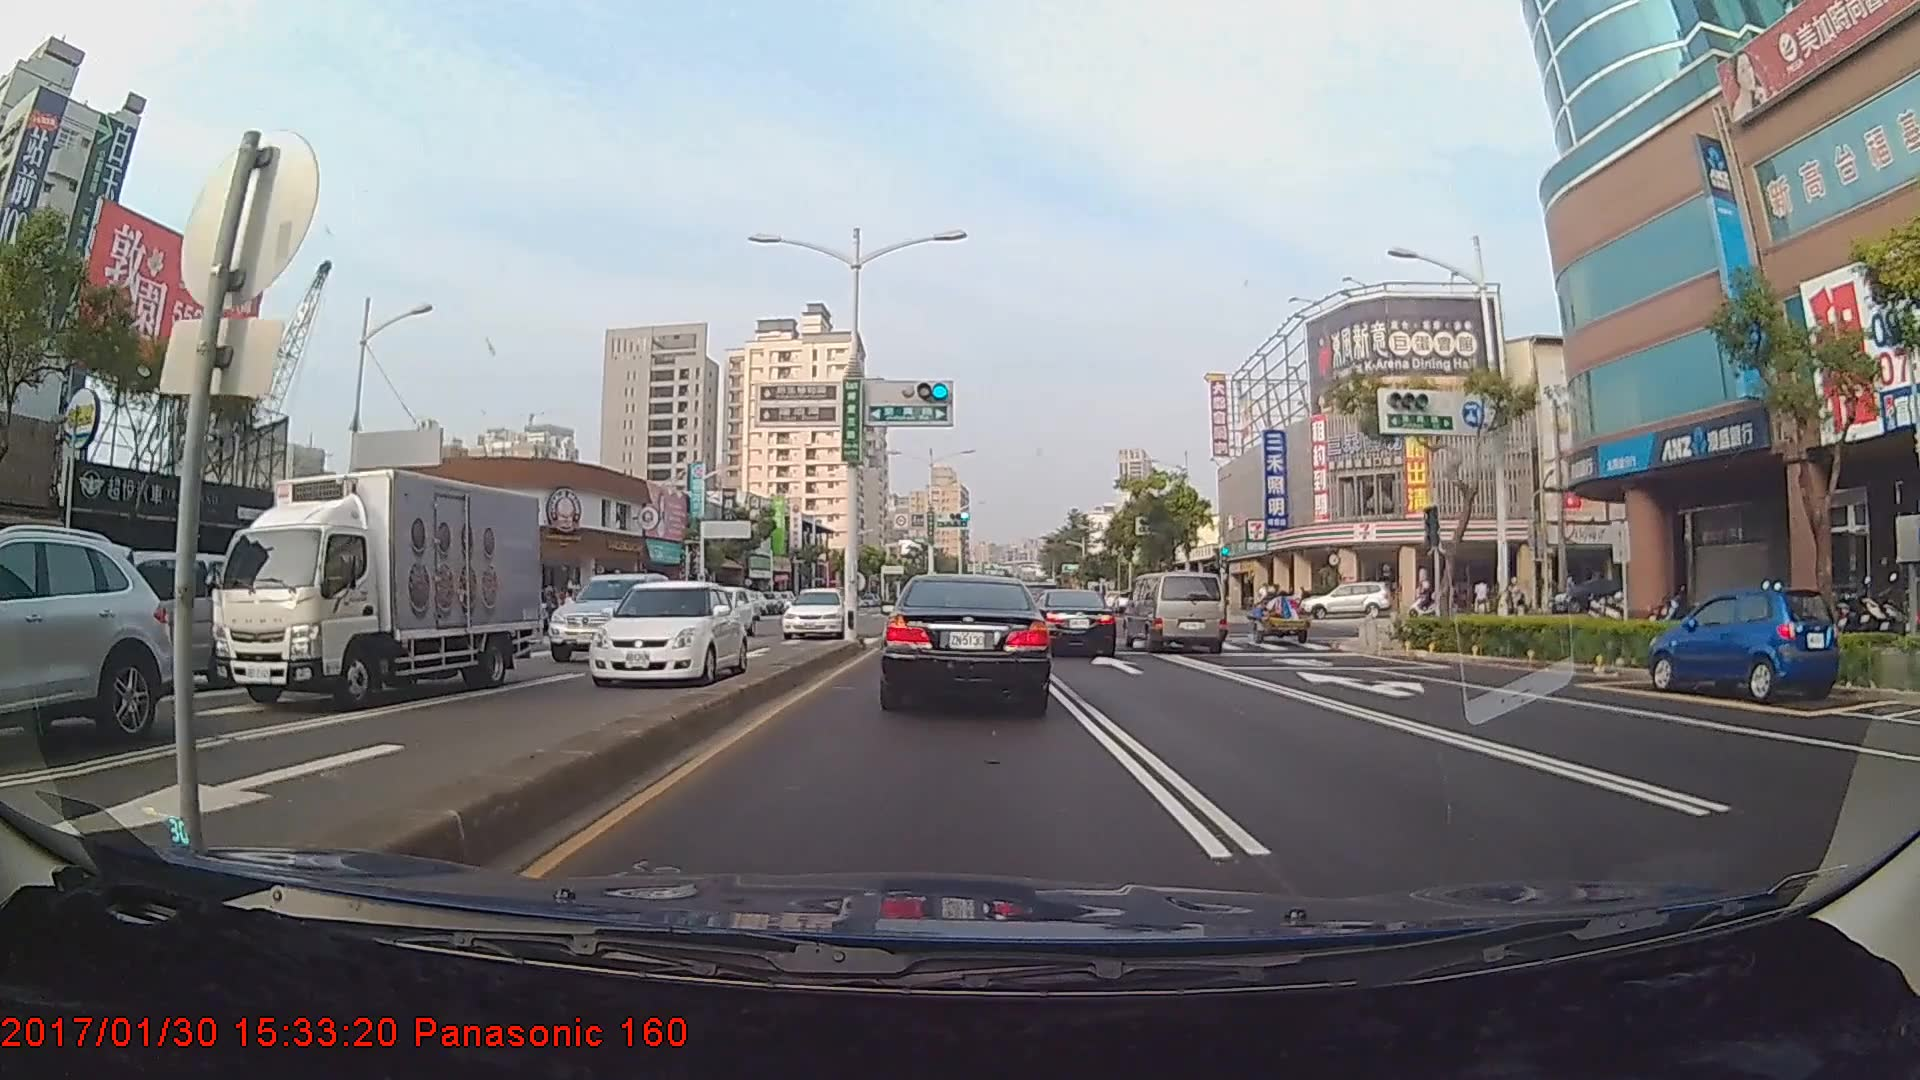vehicle: (198, 458, 553, 717), (0, 524, 165, 767), (51, 547, 243, 686), (882, 571, 1051, 711), (1650, 584, 1836, 705), (585, 578, 750, 684), (541, 566, 676, 661), (1127, 570, 1226, 654), (1033, 589, 1117, 655), (1298, 582, 1396, 621), (781, 584, 851, 637), (688, 583, 756, 636)
